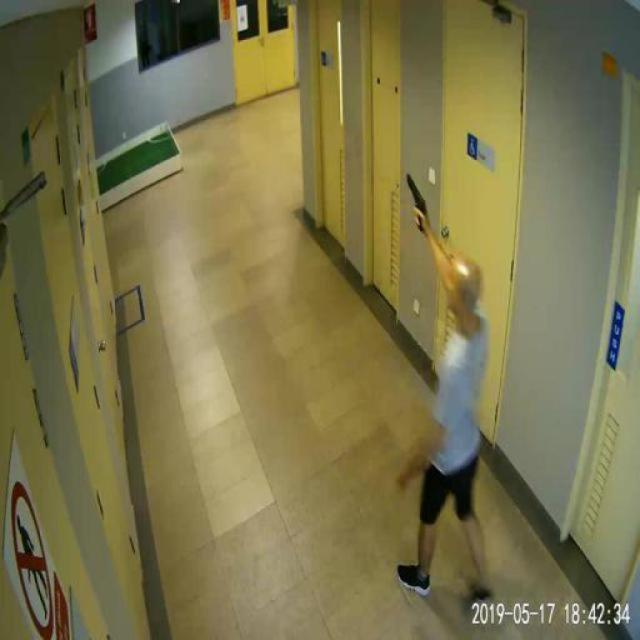pistol: (404, 172, 426, 232)
